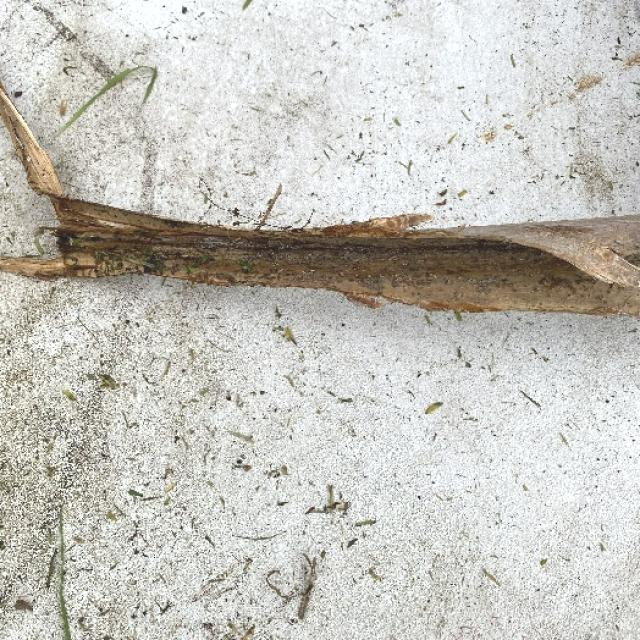organic: (368, 248, 628, 314)
